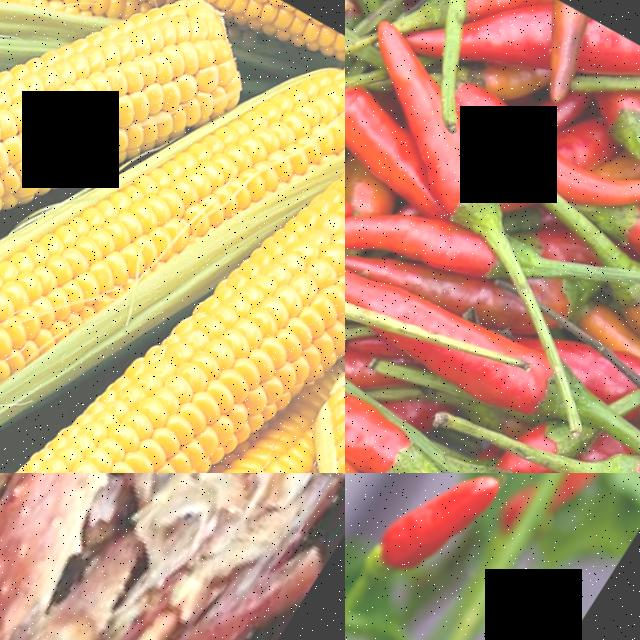chilli: (345, 224, 607, 443), (433, 66, 640, 234), (345, 173, 531, 319), (356, 473, 517, 623), (382, 105, 530, 237), (345, 324, 468, 473), (345, 57, 438, 180)
corn: (118, 90, 345, 473), (0, 0, 276, 228), (134, 4, 345, 286), (0, 183, 107, 473), (0, 368, 207, 473), (0, 18, 59, 372), (24, 0, 306, 57), (0, 0, 133, 67)
crab: (0, 473, 188, 640)
